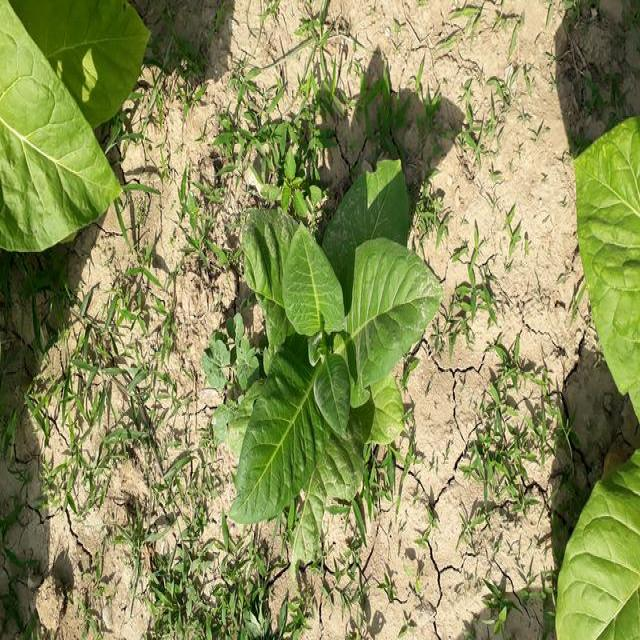crop: (234, 152, 444, 533), (0, 0, 151, 245), (582, 111, 640, 412), (566, 443, 640, 640)
